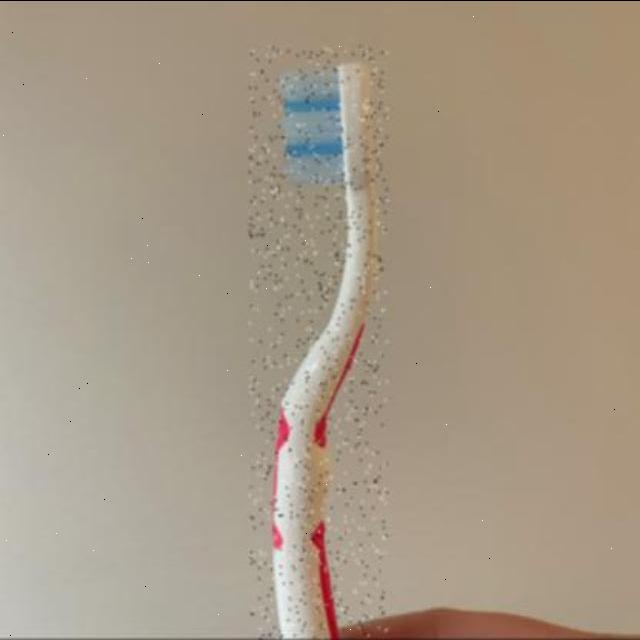toothbrush: (249, 46, 387, 640)
